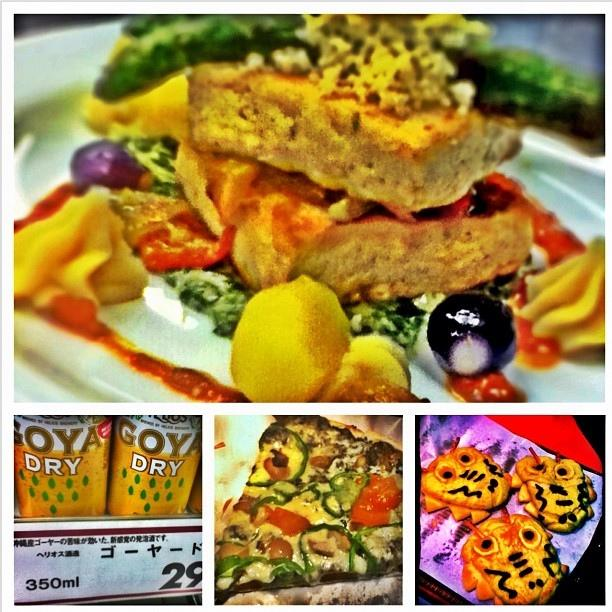tomato: (136, 211, 238, 273), (351, 472, 402, 526), (266, 507, 314, 537), (527, 336, 561, 370), (441, 192, 471, 219)
